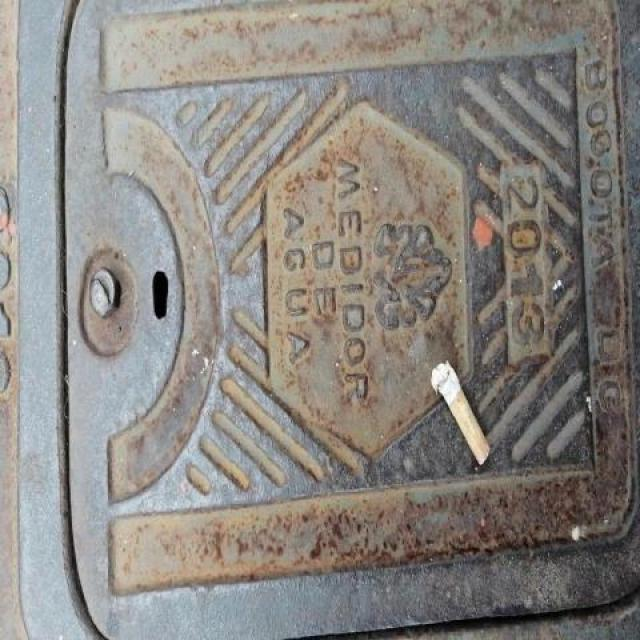non-organic waste: (428, 357, 493, 471)
